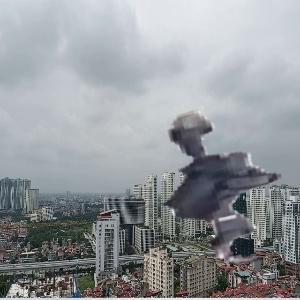drone: (94, 98, 284, 288)
